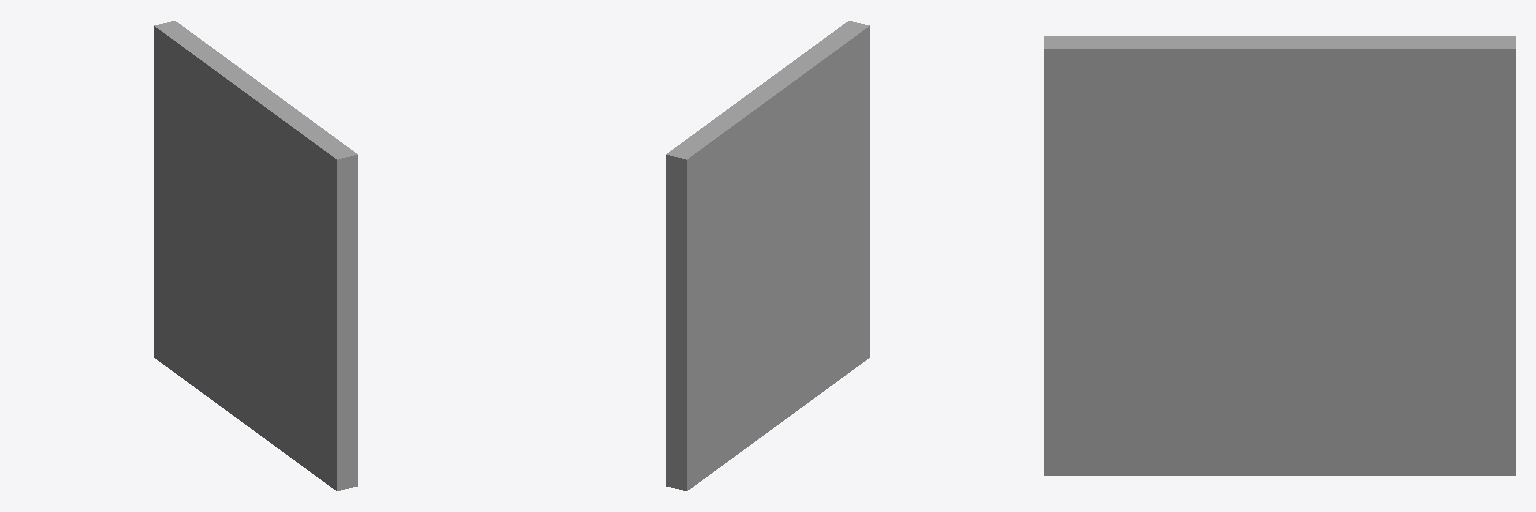
robot.urdf — panda:
<?xml version='1.0' encoding='utf-8'?>
<robot name="panda">

    <link name="link0">
      <inertial>
        <origin xyz="0 0 0.05" rpy="0 0 0" />
        <mass value="4" />
        <inertia ixx="0.4" iyy="0.4" izz="0.4" ixy="0" ixz="0" iyz="0" />
      </inertial>
      <visual>
        <geometry>
          <mesh filename="../../../model/panda/meshes/visual/link0.obj"/>
        </geometry>
      </visual>
<!--       <collision>
        <geometry>
          <mesh filename="../../../model/panda/meshes/collision/link0.obj"/>
        </geometry>
      </collision> -->
    </link>
    <link name="link1">
      <inertial>
        <origin xyz="0 0 -0.07" rpy="0 -0 0" />
        <mass value="4" />
        <inertia ixx="0.3" iyy="0.3" izz="0.3" ixy="0" ixz="0" iyz="0" />
      </inertial>
      <visual>
        <geometry>
          <mesh filename="../../../model/panda/meshes/visual/link1.obj"/>
        </geometry>
      </visual>
      <!-- <collision>
        <geometry>
          <mesh filename="../../../model/panda/meshes/collision/link1.obj"/>
        </geometry>
      </collision> -->
    </link>
    <link name="link2">
      <inertial>
        <origin xyz="0 -0.1 0" rpy="0 -0 0" />
        <mass value="3" />
        <inertia ixx="0.3" iyy="0.3" izz="0.3" ixy="0" ixz="0" iyz="0" />
      </inertial>
      <visual>
        <geometry>
          <mesh filename="../../../model/panda/meshes/visual/link2.obj"/>
        </geometry>
      </visual>
      <!-- <collision>
        <geometry>
          <mesh filename="../../../model/panda/meshes/collision/link2.obj"/>
        </geometry>
      </collision> -->
    </link>
    <link name="link3">
      <inertial>
        <origin xyz="0.04 0 -0.05" rpy="0 -0 0" />
        <mass value="3" />
        <inertia ixx="0.2" iyy="0.2" izz="0.2" ixy="0" ixz="0" iyz="0" />
      </inertial>
      <visual>
        <geometry>
          <mesh filename="../../../model/panda/meshes/visual/link3.obj"/>
        </geometry>
      </visual>
      <!-- <collision>
        <geometry>
          <mesh filename="../../../model/panda/meshes/collision/link3.obj"/>
        </geometry>
      </collision> -->
    </link>
    <link name="link4">
      <inertial>
        <origin xyz="-0.04 0.05 0" rpy="0 -0 0" />
        <mass value="3" />
        <inertia ixx="0.2" iyy="0.2" izz="0.2" ixy="0" ixz="0" iyz="0" />
      </inertial>
      <visual>
        <geometry>
          <mesh filename="../../../model/panda/meshes/visual/link4.obj"/>
        </geometry>
      </visual>
<!--       <collision>
        <geometry>
          <mesh filename="../../../model/panda/meshes/collision/link4.obj"/>
        </geometry>
      </collision> -->
    </link>
    <link name="link5">
      <inertial>
        <origin xyz="0 0 -0.15" rpy="0 -0 0" />
        <mass value="3" />
        <inertia ixx="0.2" iyy="0.2" izz="0.2" ixy="0" ixz="0" iyz="0" />
      </inertial>
      <visual>
        <geometry>
          <mesh filename="../../../model/panda/meshes/visual/link5.obj"/>
        </geometry>
      </visual>
<!--       <collision>
        <geometry>
          <mesh filename="../../../model/panda/meshes/collision/link5.obj"/>
        </geometry>
      </collision> -->
    </link>
    <link name="link6">
      <inertial>
        <origin xyz="0.06 0 0" rpy="0 -0 0" />
        <mass value="2" />
        <inertia ixx="0.1" iyy="0.1" izz="0.1" ixy="0" ixz="0" iyz="0" />
      </inertial>
      <visual>
        <geometry>
          <mesh filename="../../../model/panda/meshes/visual/link6.obj"/>
        </geometry>
      </visual>
      <!-- <collision>
        <geometry>
          <mesh filename="../../../model/panda/meshes/collision/link6.obj"/>
        </geometry>
      </collision> -->
    </link>
    <link name="link7">
      <inertial>
        <origin xyz="0 0 0.1" rpy="0 -0 0" />
        <mass value="1.0" />
        <inertia ixx="0.1" iyy="0.1" izz="0.25" ixy="0" ixz="0" iyz="0" />
      </inertial>
      <visual>
        <geometry>
          <mesh filename="../../../model/panda/meshes/visual/link7.obj"/>
        </geometry>
      </visual>
      <visual>
        <origin xyz="0 0 0.1" rpy="0 -0 0" />
        <geometry>
          <box size="0.15 0.15 0.01"/>
        </geometry>
      </visual>
      <!-- <collision>
        <geometry>
          <mesh filename="../../../model/panda/meshes/collision/link7.obj"/>
        </geometry>
      </collision> -->
    </link>
    <joint name="joint1" type="revolute">
      <safety_controller k_position="100.0" k_velocity="40.0" soft_lower_limit="-2.8973" soft_upper_limit="2.8973"/>
      <origin rpy="0 0 0" xyz="0 0 0.333"/>
      <parent link="link0"/>
      <child link="link1"/>
      <axis xyz="0 0 1"/>
      <limit effort="87" lower="-2.8973" upper="2.8973" velocity="2.1750"/>
    </joint>
    <joint name="joint2" type="revolute">
      <safety_controller k_position="100.0" k_velocity="40.0" soft_lower_limit="-1.7628" soft_upper_limit="1.7628"/>
      <origin rpy="-1.57079632679 0 0" xyz="0 0 0"/>
      <parent link="link1"/>
      <child link="link2"/>
      <axis xyz="0 0 1"/>
      <calibration falling="-45.0" />
      <limit effort="87" lower="-1.7628" upper="1.7628" velocity="2.1750"/>
    </joint>
    <joint name="joint3" type="revolute">
      <safety_controller k_position="100.0" k_velocity="40.0" soft_lower_limit="-2.8973" soft_upper_limit="2.8973"/>
      <origin rpy="1.57079632679 0 0" xyz="0 -0.316 0"/>
      <parent link="link2"/>
      <child link="link3"/>
      <axis xyz="0 0 1"/>
      <limit effort="87" lower="-2.8973" upper="2.8973" velocity="2.1750"/>
    </joint>
    <joint name="joint4" type="revolute">
      <safety_controller k_position="100.0" k_velocity="40.0" soft_lower_limit="-3.0718" soft_upper_limit="-0.0698"/>
      <origin rpy="1.57079632679 0 0" xyz="0.0825 0 0"/>
      <parent link="link3"/>
      <child link="link4"/>
      <axis xyz="0 0 1"/>
      <calibration falling="-125.0" />
      <limit effort="87" lower="-3.0718" upper="-0.0698" velocity="2.1750"/>
    </joint>
    <joint name="joint5" type="revolute">
      <safety_controller k_position="100.0" k_velocity="40.0" soft_lower_limit="-2.8973" soft_upper_limit="2.8973"/>
      <origin rpy="-1.57079632679 0 0" xyz="-0.0825 0.384 0"/>
      <parent link="link4"/>
      <child link="link5"/>
      <axis xyz="0 0 1"/>
      <limit effort="12" lower="-2.8973" upper="2.8973" velocity="2.6100"/>
    </joint>
    <joint name="joint6" type="revolute">
      <safety_controller k_position="100.0" k_velocity="40.0" soft_lower_limit="-0.0175" soft_upper_limit="3.7525"/>
      <origin rpy="1.57079632679 0 0" xyz="0 0 0"/>
      <parent link="link5"/>
      <child link="link6"/>
      <axis xyz="0 0 1"/>
      <calibration falling="80.0" />
      <limit effort="12" lower="-0.0175" upper="3.7525" velocity="2.6100"/>
    </joint>
    <joint name="joint7" type="revolute">
      <safety_controller k_position="100.0" k_velocity="40.0" soft_lower_limit="-2.8973" soft_upper_limit="2.8973"/>
      <origin rpy="1.57079632679 0 0" xyz="0.088 0 0"/>
      <parent link="link6"/>
      <child link="link7"/>
      <axis xyz="0 0 1"/>
      <limit effort="12" lower="-2.8973" upper="2.8973" velocity="2.6100"/>
    </joint>
</robot>

--- Render facts (derived) ---
3 views of the same robot in one strip: view 1: azimuth 30°, elevation 25°; view 2: azimuth 150°, elevation 25°; view 3: azimuth 270°, elevation 25° (orthographic).
Robot: panda — 8 links, 7 joints (7 revolute); root link link0; default pose: all joints at 0 but 1 set to mid-range because 0 is outside their limits (joint4 = -1.57).
Links seen in each view (by area): view 1: link7; view 2: link7; view 3: link7.
Link boxes in pixels (x1,y1,x2,y2): link7: [154, 21, 357, 490]; link7: [666, 21, 869, 490]; link7: [1044, 36, 1515, 475].
Size in the robot's own frame: 0.01 by 0.15 by 0.15 metres.
Geometry: only primitive shapes (box / cylinder / sphere) drawn; not drawn: 8 mesh visuals (reference in a form the renderer does not follow).